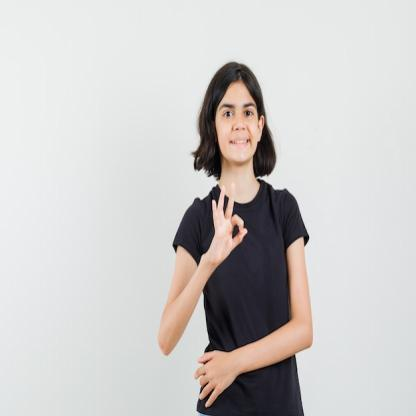ok: (210, 180, 247, 268)
